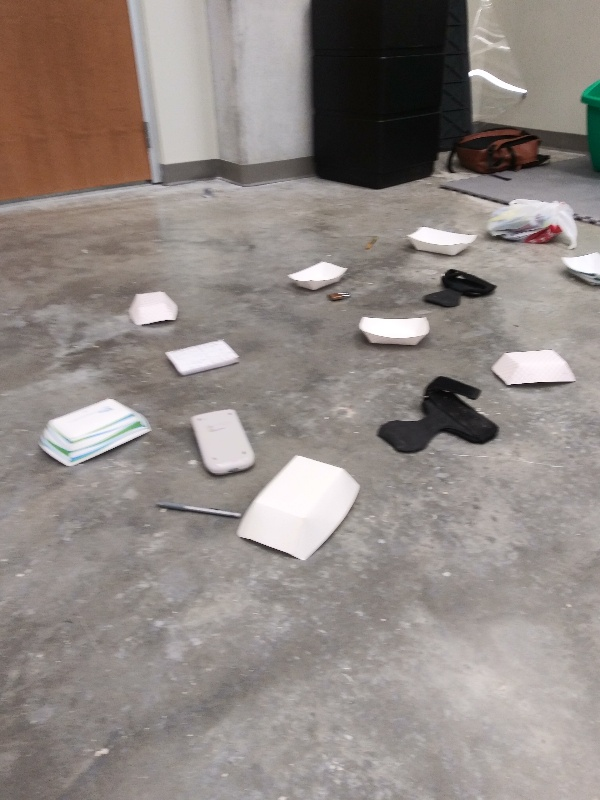plate: (230, 451, 367, 567), (33, 393, 154, 472), (488, 347, 578, 390), (353, 311, 434, 349), (281, 256, 352, 296), (404, 222, 479, 259), (554, 246, 600, 297), (126, 288, 181, 330)
